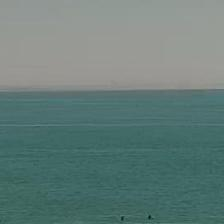surfer: (120, 216, 125, 221), (148, 215, 152, 220)
